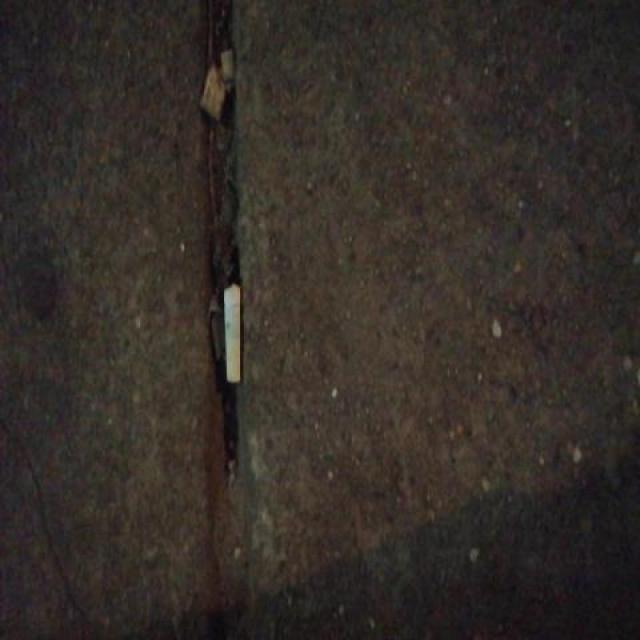non-organic waste: (221, 281, 243, 388)
